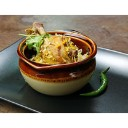briyani: (26, 23, 83, 63)
